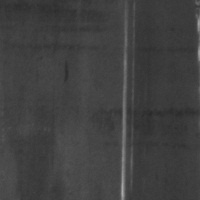scratches: (118, 3, 139, 199)
